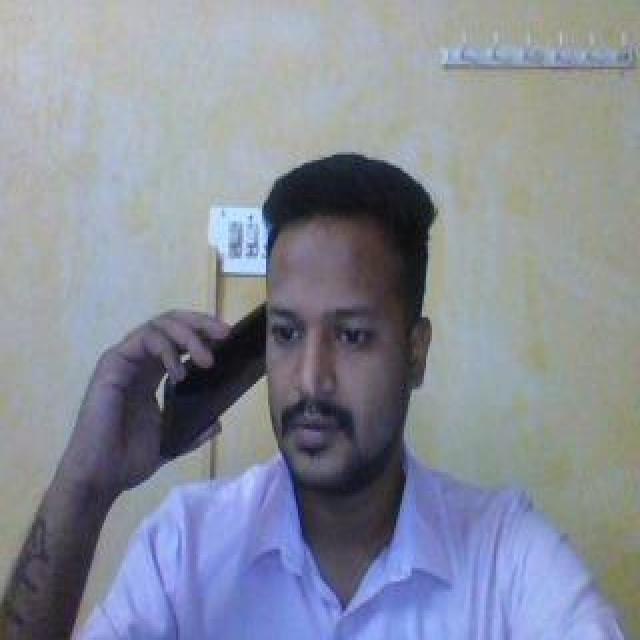phone: (161, 301, 267, 459)
